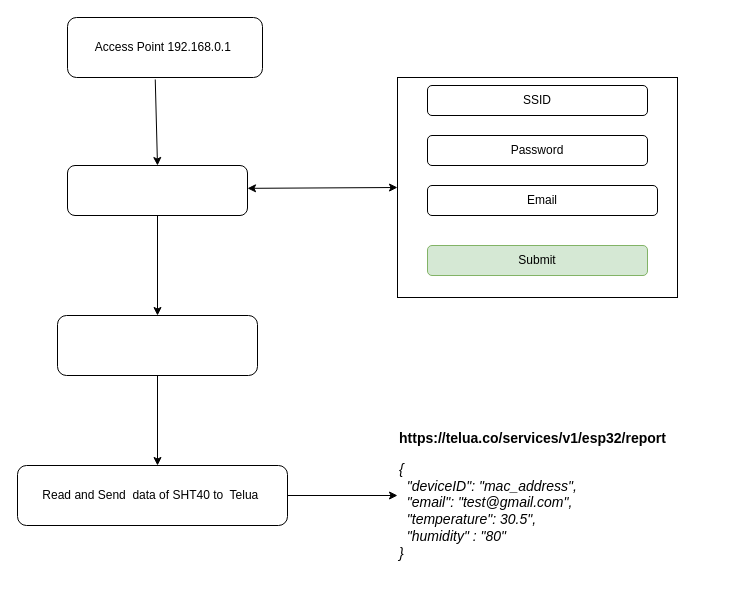
Image size: 735x593. Some labels were removed from this diagram. The box of each missing label's shape, as (x1, y1, x2, y2) in pixels:
SSID-Password, email: (66, 164, 248, 216)
WorkStation: (56, 314, 258, 376)
